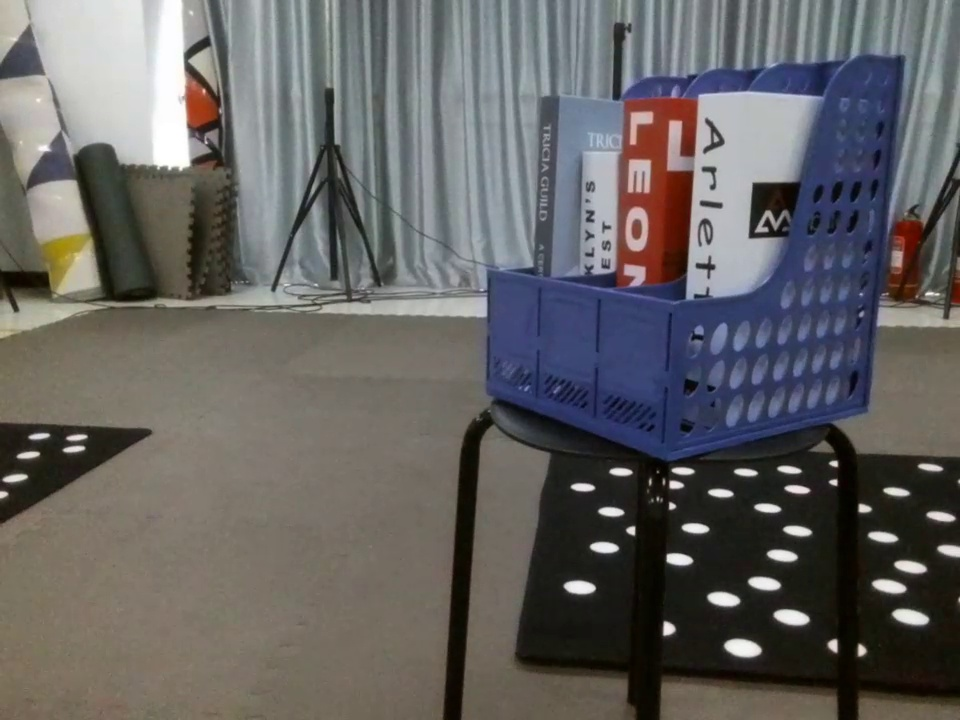files: (483, 50, 908, 467)
